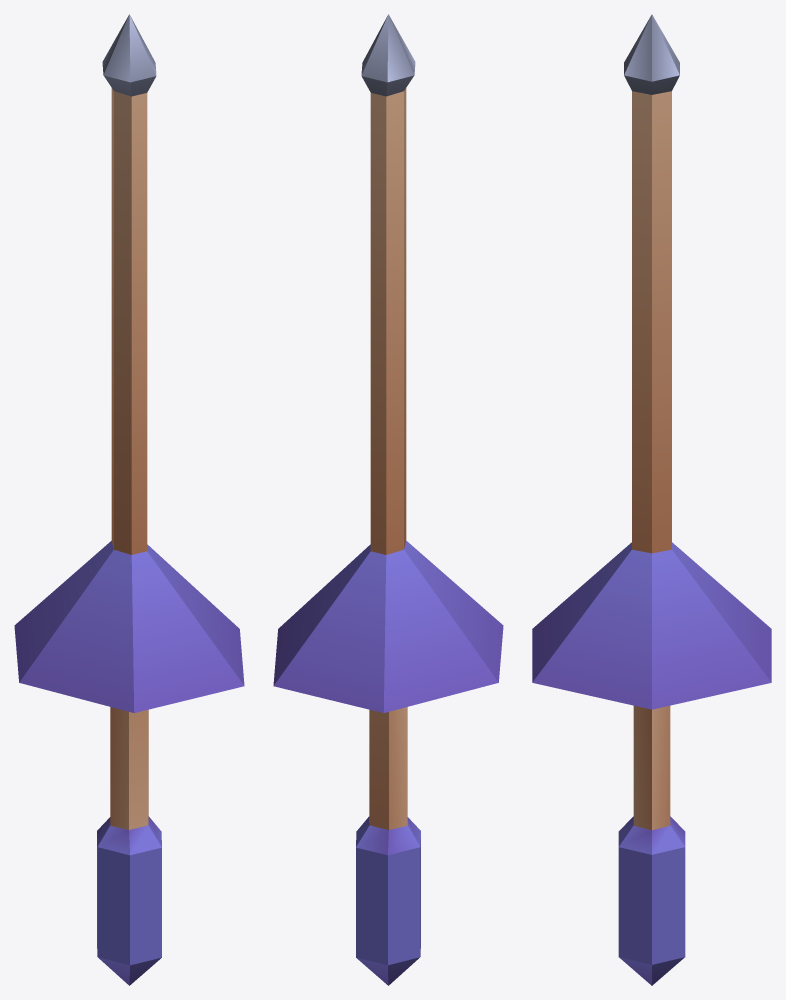
Rendered from lance_1.fbx.
The picture shows the model from 3 angles, left to right: view 1: azimuth 30°, elevation 25°; view 2: azimuth 150°, elevation 25°; view 3: azimuth 270°, elevation 25°; orthographic projection.
Visible parts, largest first — view 1: cylinder; view 2: cylinder; view 3: cylinder.
Boxes of the visible parts, bbox=[...] form: cylinder: bbox=[14, 14, 244, 985]; cylinder: bbox=[273, 14, 503, 985]; cylinder: bbox=[532, 14, 771, 985].
Bounding box in the file's own units: 102 × 429 × 95.83.
1 material, 1 textured.
